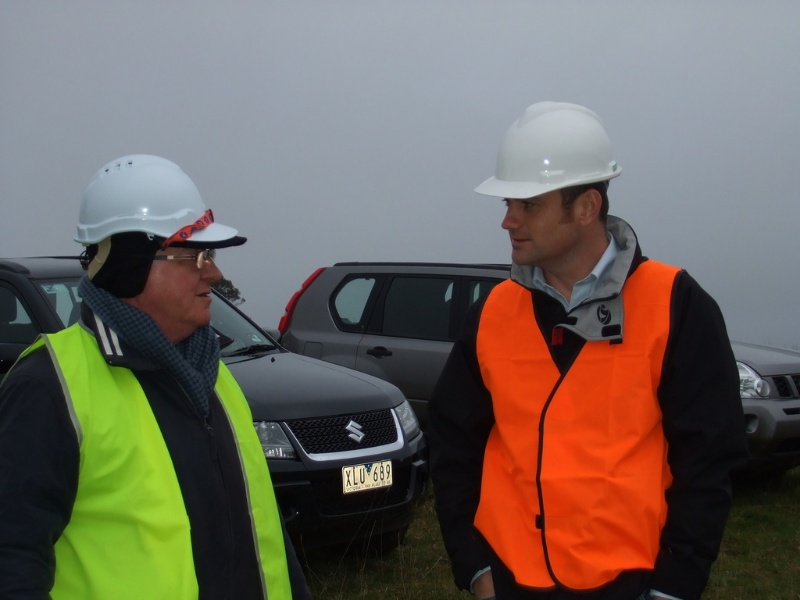Baret: (75, 155, 247, 258), (476, 102, 625, 201)
